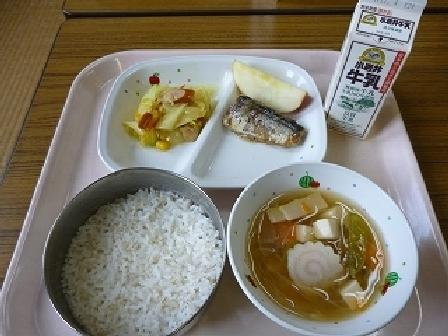Apple: (232, 50, 310, 105)
Fish: (228, 99, 308, 154)
Milk: (324, 0, 431, 132)
Rice: (51, 171, 219, 331)
Soups: (241, 171, 409, 320)
salad with sauce: (121, 73, 211, 152)
